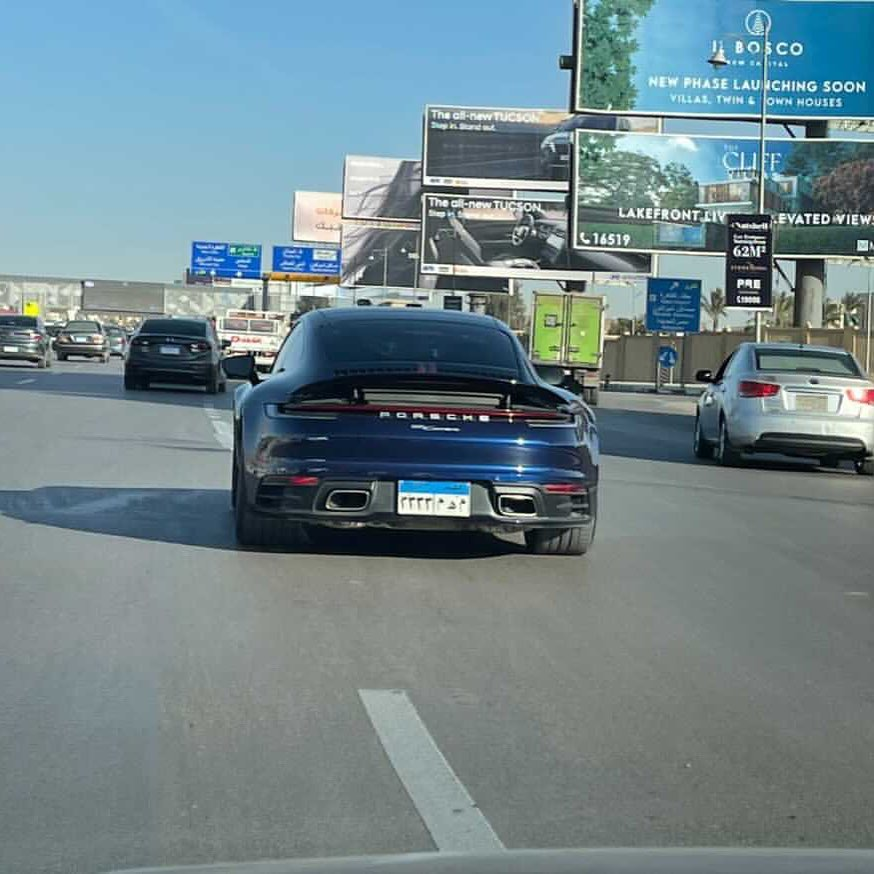carpl: (392, 487, 476, 517)
